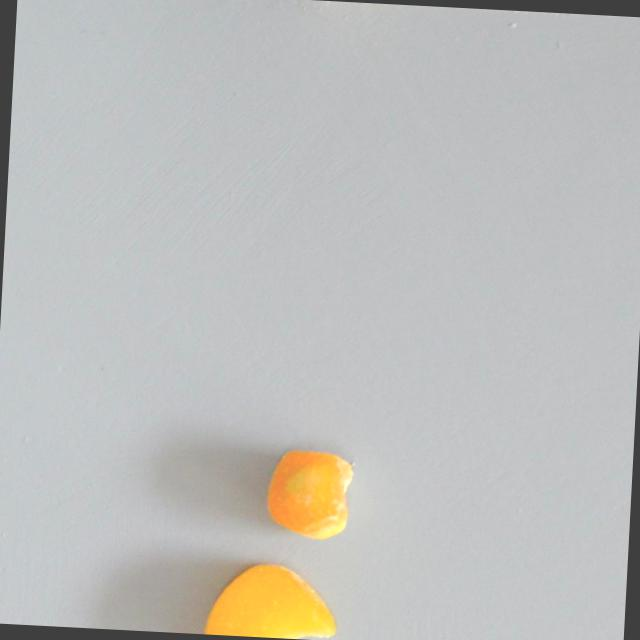pelicula: (201, 560, 338, 640), (261, 447, 353, 541)
